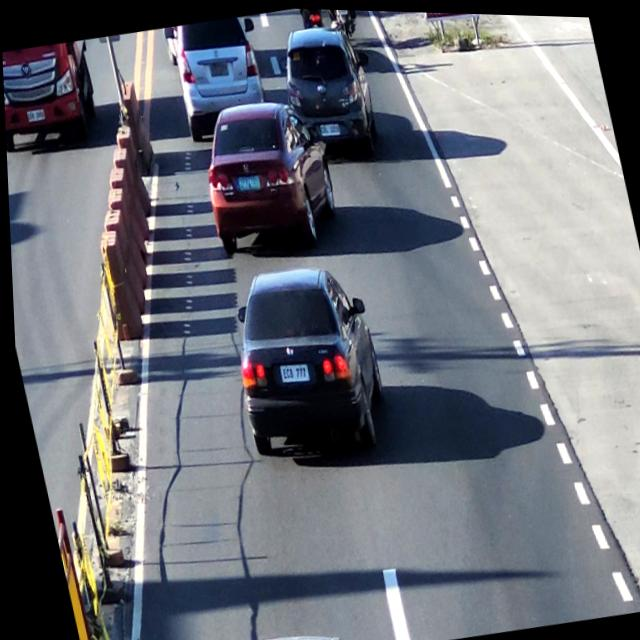Car: (210, 249, 398, 460), (189, 94, 338, 245), (273, 18, 384, 154), (160, 11, 270, 122), (199, 618, 343, 640)
License-Plate: (272, 356, 312, 392), (229, 164, 261, 194), (318, 116, 344, 142), (204, 52, 231, 77)
